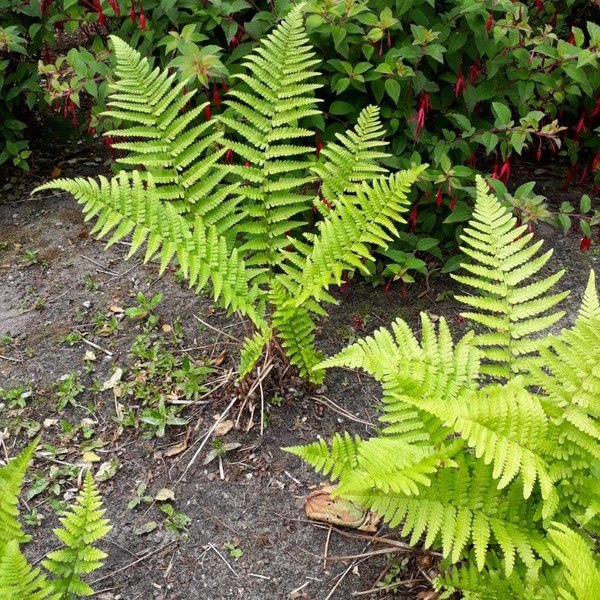obstacle: (45, 23, 376, 382), (370, 155, 591, 577), (379, 7, 579, 138), (0, 440, 119, 586)
